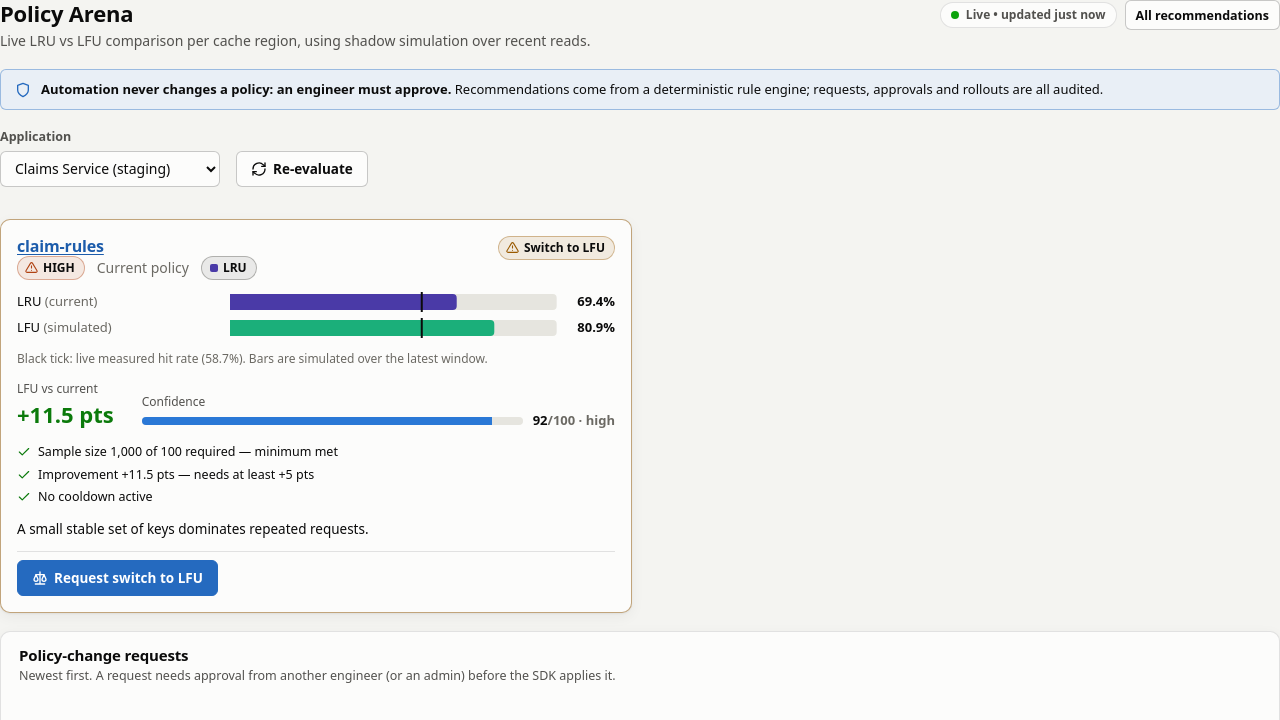
Policy Arena: recommendations › submits a policy-change request with the recommendation id
Click the button "Request switch to LFU": (117, 578) [17,560,218,596]
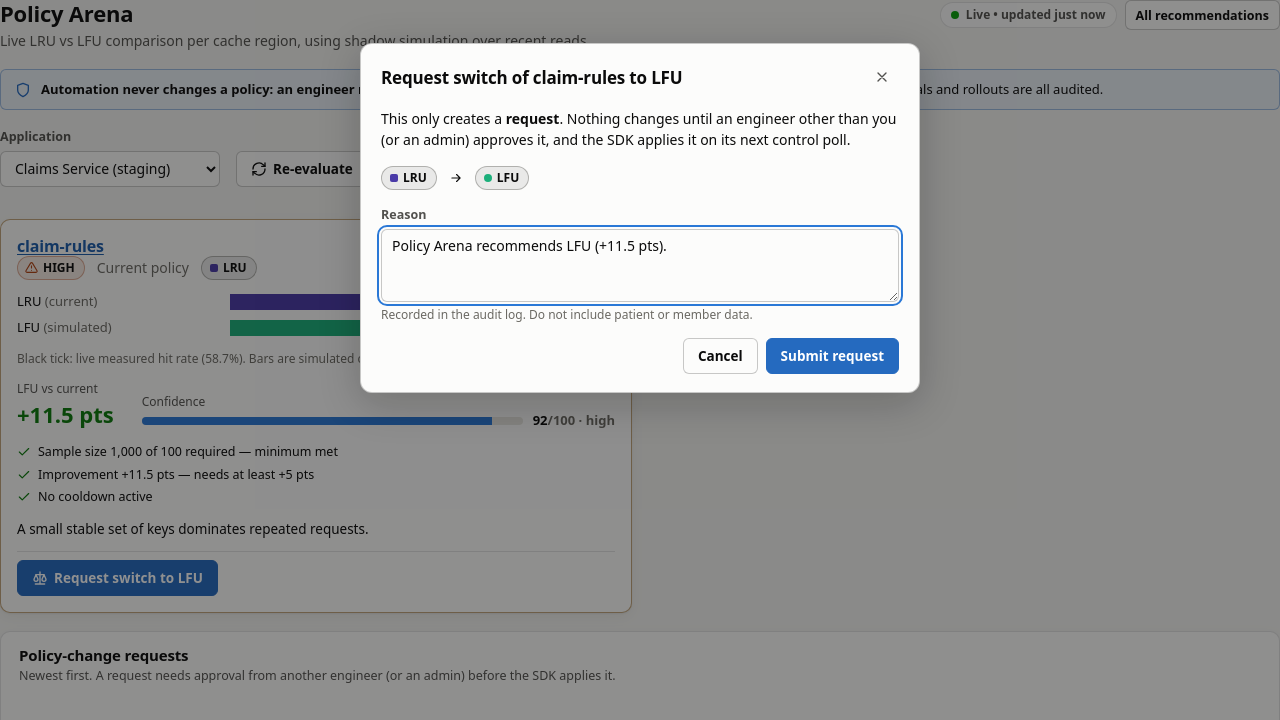
Expected: the text "Nothing changes until an engineer other than you" is shown, [381,109,896,149]
Click the button "Submit request": (832, 356) [766,338,899,374]
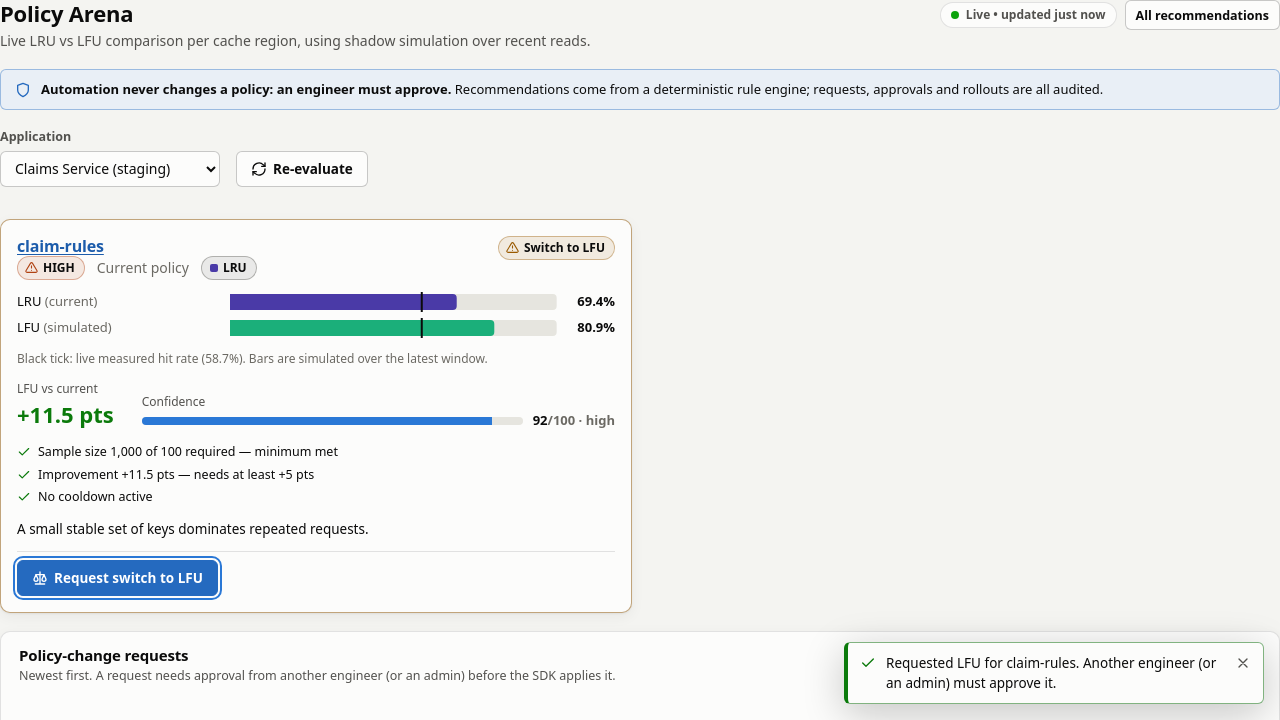
Expected: the text "Requested LFU for claim-rules" is shown, [886,654,1216,692]
